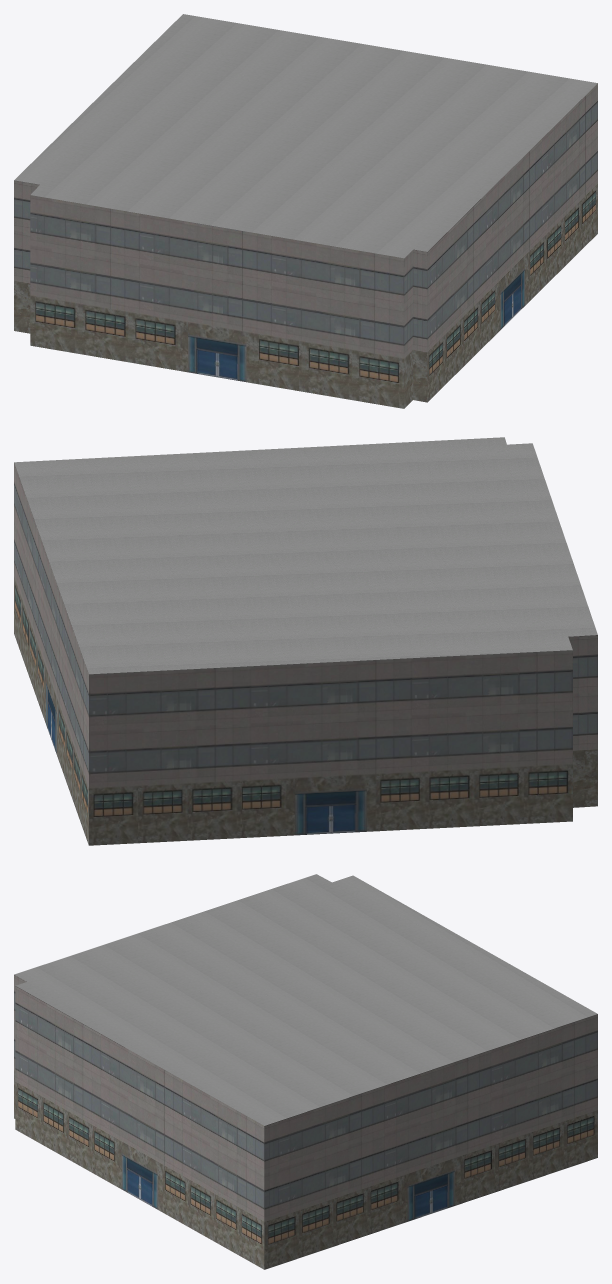
3 renders of one model, top to bottom at view 1: azimuth 30°, elevation 25°; view 2: azimuth 150°, elevation 25°; view 3: azimuth 270°, elevation 25°, orthographic. The views are drawn at different scales.
Visible parts, largest first — view 1: BuildingMaster_2002193972464461467500000000_0, BuildingMaster_2002193972464461467500000000_1; view 2: BuildingMaster_2002193972464461467500000000_1, BuildingMaster_2002193972464461467500000000_0; view 3: BuildingMaster_2002193972464461467500000000_0, BuildingMaster_2002193972464461467500000000_1.
Boxes of the visible parts, left/top/right/bottom form: BuildingMaster_2002193972464461467500000000_0: left=14, top=83, right=597, bottom=408; BuildingMaster_2002193972464461467500000000_1: left=14, top=14, right=597, bottom=258; BuildingMaster_2002193972464461467500000000_1: left=14, top=437, right=597, bottom=674; BuildingMaster_2002193972464461467500000000_0: left=14, top=463, right=597, bottom=845; BuildingMaster_2002193972464461467500000000_0: left=14, top=975, right=597, bottom=1269; BuildingMaster_2002193972464461467500000000_1: left=14, top=874, right=597, bottom=1125.
Size of the model in its own units: 39.44 by 10.5 by 38.63.
Materials: 2 (2 with a texture image).
